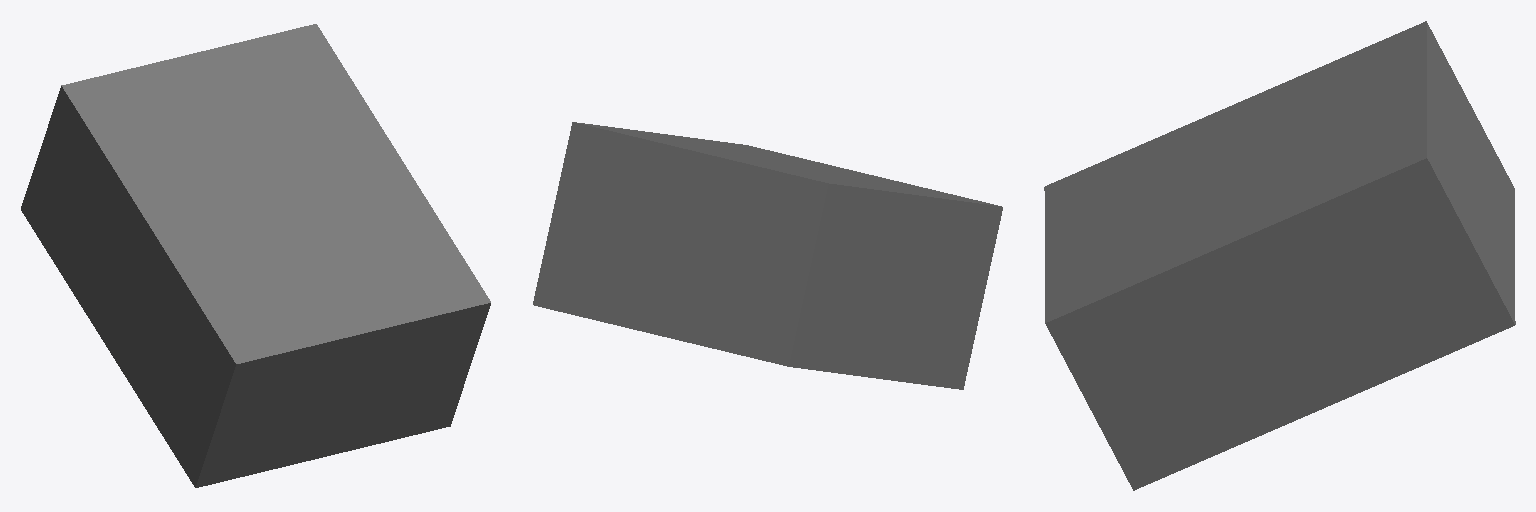
The robot description file, URDF, robot "brick_x-2-0":
<?xml version="1.0"?>
<robot name="brick_x-2-0">
  <link name="base">
    <visual>
      <geometry>
        <mesh filename="brick_x-2-0.obj" scale="1 1 1"/>
      </geometry>
      <material name="gray">
        <color rgba="0.5 0.5 0.5 1.0"/>
      </material>
    </visual>
    <collision>
      <geometry>
        <mesh filename="brick_x-2-0.obj" scale="1 1 1"/>
      </geometry>
    </collision>
    <inertial>
      <mass value="1.000"/>
      <inertia
          ixx="0.015431" ixy="0.000000" ixz="0.000000"
          iyy="0.010371" iyz="0.000000"
          izz="0.014097"/>
      <origin xyz="-0.077785 -0.167187 0.996188" rpy="0 0 0"/>
    </inertial>
  </link>
</robot>

--- What the picture shows (computed from the rendered views, not written in the file) ---
The picture shows the robot from 3 angles, left to right: view 1: azimuth 30°, elevation 25°; view 2: azimuth 150°, elevation 25°; view 3: azimuth 270°, elevation 25°; orthographic projection.
Model brick_x-2-0 with 1 links and 0 joints (none), rooted at base, posed every joint at zero.
Links seen in each view (by area): view 1: base; view 2: base; view 3: base.
Link boxes in pixels (x1,y1,x2,y2): base: [21, 24, 490, 487]; base: [533, 122, 1002, 389]; base: [1044, 21, 1515, 490].
Bounding box of the posed robot: 0.2329 × 0.339 × 0.265 m (x, y, z).
1 mesh visuals loaded from 1 distinct referenced files (1 OBJ).
